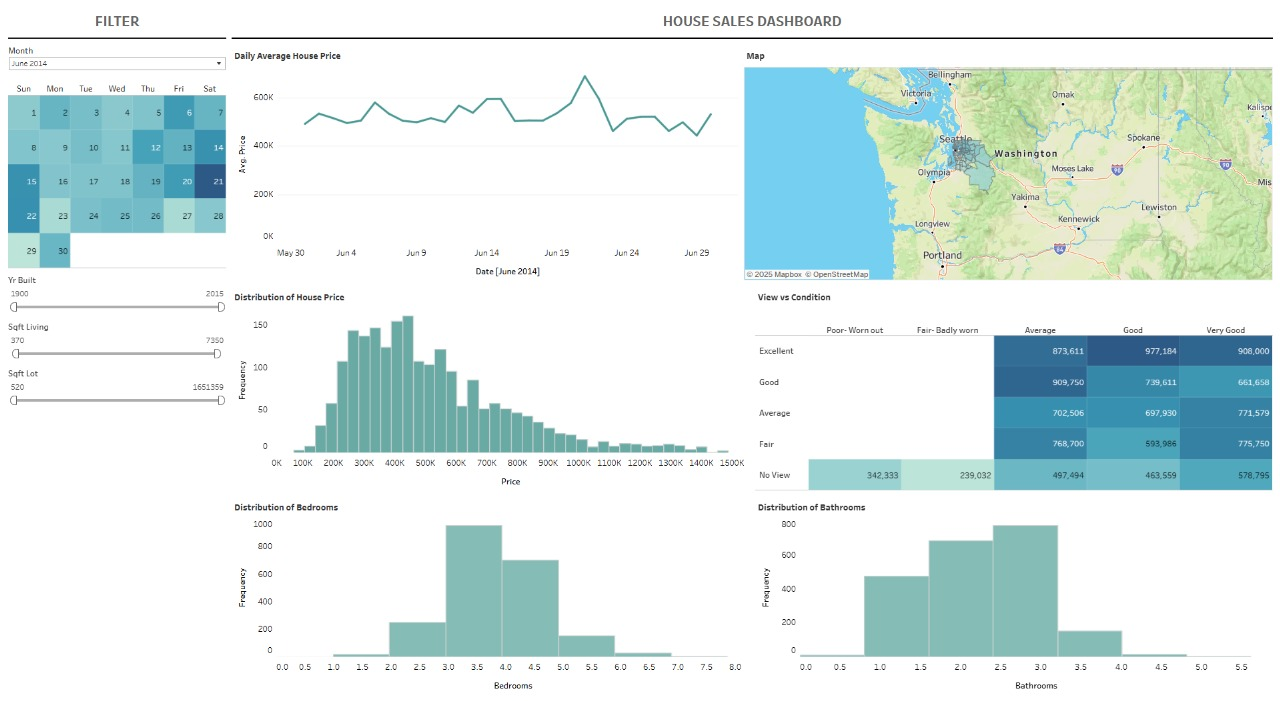

Layout of this report page (visuals, bound fields, positions):
{"tool":"tableau","page":{"name":"Dashboard 1","canvas":[1000,1000],"units":"permille","ordinal":0},"visuals":[{"type":"text","box":[5.2,10.4,174.4,41.6]},{"type":"text","box":[179.5,10.4,815.3,41.6]},{"type":"blank","box":[5.2,52.1,174.4,13]},{"type":"blank","box":[179.5,52.1,815.3,13]},{"type":"filter","title":"Calendar","param":"[federated.0anv2fa0805ure11d9ds11ctmyiq].[my:date:ok]","box":[5.2,65.1,174.4,72.9]},{"type":"worksheet","title":"Linechart","mark":"Automatic","rows":["price"],"cols":["date"],"box":[179.5,65.1,396.7,338.2]},{"type":"worksheet","title":"Map","mark":"Automatic","box":[576.2,65.1,418.6,338.2]},{"type":"worksheet","title":"Calendar","mark":"Square","rows":["date"],"cols":["date"],"box":[5.2,138,174.4,375]},{"type":"worksheet","title":"HistoryPrice","mark":"Automatic","rows":["price"],"cols":["Price (bin)"],"box":[179.5,403.3,407.7,297.2]},{"type":"worksheet","title":"Heatmap","mark":"Square","rows":["view"],"cols":["condition"],"box":[587.2,403.3,407.7,297.5]},{"type":"filter","title":"Calendar","param":"[federated.0anv2fa0805ure11d9ds11ctmyiq].[none:yr_built:qk]","box":[5.2,513,174.4,91.2]},{"type":"filter","title":"Calendar","param":"[federated.0anv2fa0805ure11d9ds11ctmyiq].[none:sqft_living:qk]","box":[5.2,604.1,174.4,91.2]},{"type":"filter","title":"Calendar","param":"[federated.0anv2fa0805ure11d9ds11ctmyiq].[none:sqft_lot:qk]","box":[5.2,695.3,174.4,91.2]},{"type":"worksheet","title":"HistoryBedrooms","mark":"Automatic","rows":["bedrooms"],"cols":["Bedrooms (bin)"],"box":[179.5,700.5,407.7,289.1]},{"type":"worksheet","title":"HistoryBathrooms","mark":"Automatic","rows":["bathrooms"],"cols":["Bathrooms (bin)"],"box":[587.2,700.8,407.7,288.8]}]}

Visuals, with their boxes on the dashboard's canvas, which has no fixed pixel size, in thousandths of its width and height (x1, y1, x2, y2). These are canvas units, not pixel positions in the 1280x701 screenshot, which may show the page scaled, cropped or inside an application window:
text: [x1=5, y1=10, x2=180, y2=52]
text: [x1=180, y1=10, x2=995, y2=52]
blank: [x1=5, y1=52, x2=180, y2=65]
blank: [x1=180, y1=52, x2=995, y2=65]
"Calendar" filter: [x1=5, y1=65, x2=180, y2=138]
"Linechart" worksheet: [x1=180, y1=65, x2=576, y2=403]
"Map" worksheet: [x1=576, y1=65, x2=995, y2=403]
"Calendar" worksheet (Square marks): [x1=5, y1=138, x2=180, y2=513]
"HistoryPrice" worksheet: [x1=180, y1=403, x2=587, y2=700]
"Heatmap" worksheet (Square marks): [x1=587, y1=403, x2=995, y2=701]
"Calendar" filter: [x1=5, y1=513, x2=180, y2=604]
"Calendar" filter: [x1=5, y1=604, x2=180, y2=695]
"Calendar" filter: [x1=5, y1=695, x2=180, y2=786]
"HistoryBedrooms" worksheet: [x1=180, y1=700, x2=587, y2=990]
"HistoryBathrooms" worksheet: [x1=587, y1=701, x2=995, y2=990]
